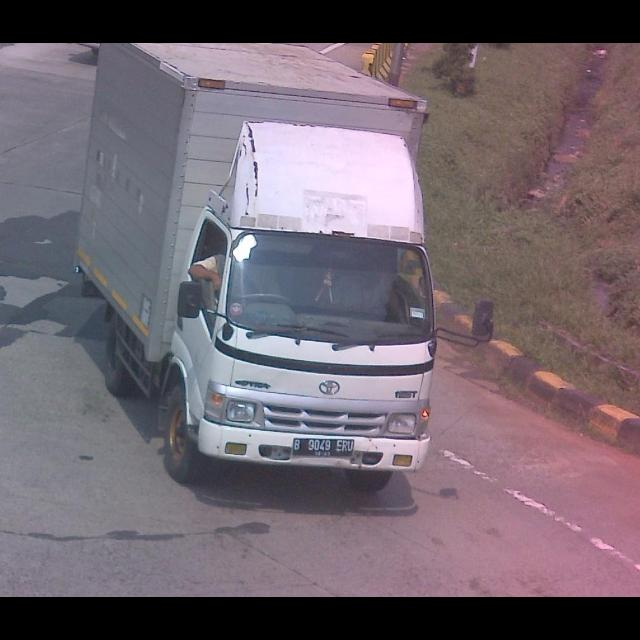plate: (290, 435, 358, 459)
